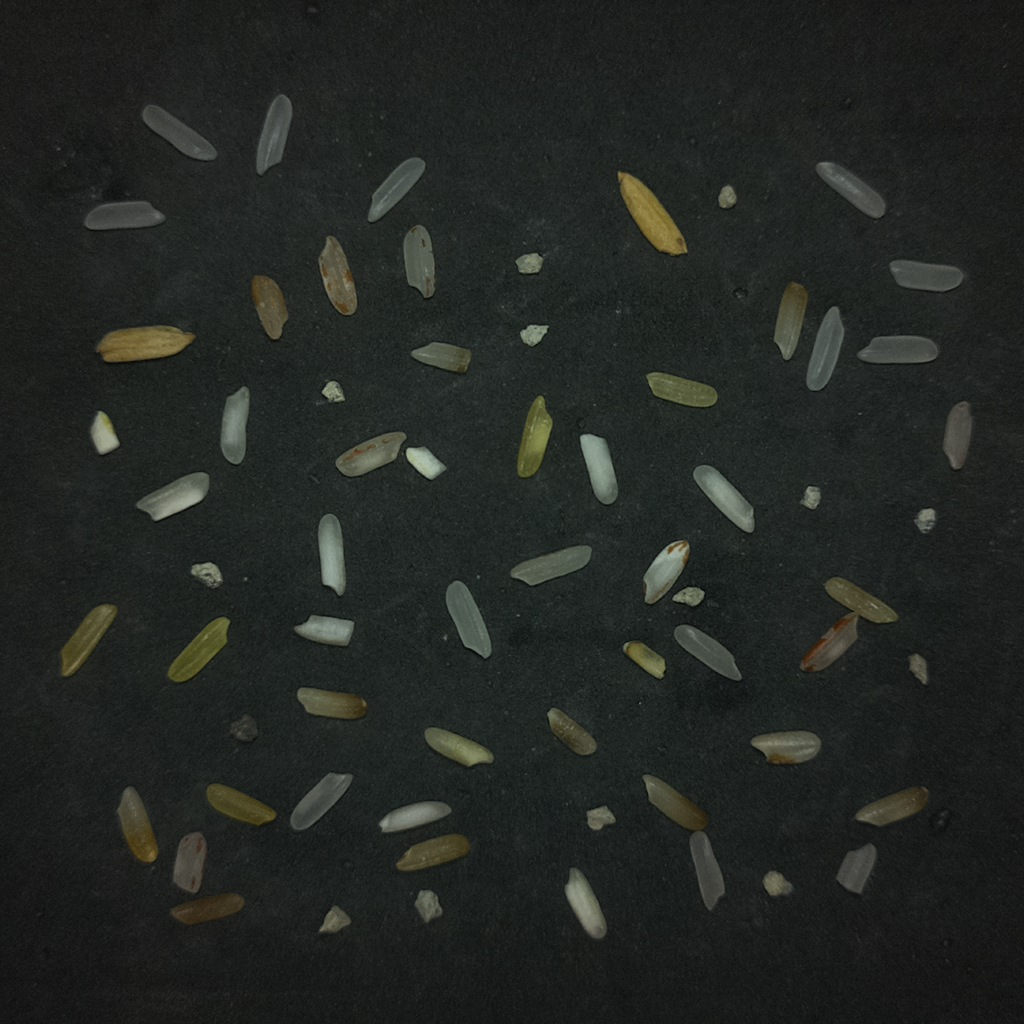broken: (643, 540, 689, 604), (836, 843, 876, 894), (942, 401, 972, 469), (294, 615, 353, 646)
chalky: (693, 466, 752, 531), (135, 472, 209, 521), (564, 868, 606, 939), (580, 434, 617, 504), (379, 801, 451, 832), (221, 387, 249, 464), (320, 514, 344, 594), (405, 447, 446, 479), (90, 411, 119, 454)
damaged: (117, 787, 157, 862), (855, 786, 928, 826), (774, 282, 808, 360), (547, 708, 595, 755), (296, 687, 366, 719), (410, 342, 471, 373), (622, 641, 665, 678)
discolored: (60, 604, 117, 677), (167, 617, 229, 682), (643, 774, 707, 830), (825, 577, 898, 623), (517, 396, 553, 479), (206, 784, 275, 825), (396, 833, 470, 871), (424, 727, 492, 766), (646, 371, 717, 407), (170, 893, 243, 924)
foreign: (318, 905, 351, 933), (414, 890, 442, 922), (230, 714, 258, 742), (762, 871, 793, 896), (191, 562, 221, 587), (586, 805, 615, 830), (672, 586, 705, 606), (908, 653, 928, 684), (914, 508, 937, 534), (515, 253, 543, 274), (521, 324, 547, 345), (321, 380, 344, 402), (800, 485, 821, 509), (718, 184, 737, 209)
paddy: (618, 171, 686, 254), (96, 325, 195, 362)
red: (800, 611, 858, 671), (336, 432, 405, 476), (319, 236, 357, 315), (750, 730, 820, 764), (251, 275, 287, 340), (403, 225, 435, 298), (173, 831, 208, 894)
whole: (816, 161, 885, 218), (142, 105, 215, 158), (367, 157, 423, 221), (674, 625, 740, 677), (291, 773, 351, 829), (446, 580, 490, 656), (510, 545, 591, 585), (807, 307, 842, 389), (689, 831, 724, 910), (256, 95, 290, 173), (889, 259, 963, 292), (857, 335, 937, 364), (84, 201, 162, 229)
